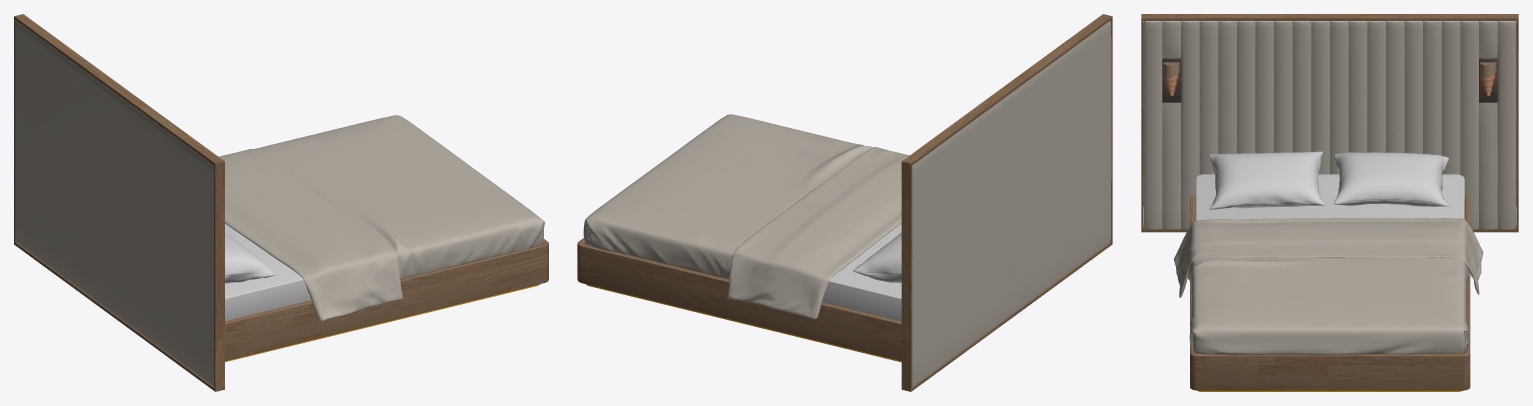
Rendered from bed_01_5th_dimension.glb.
3 renders of one model, left to right at view 1: azimuth 30°, elevation 25°; view 2: azimuth 150°, elevation 25°; view 3: azimuth 270°, elevation 25°, orthographic. The views are drawn at different scales.
Visible parts, largest first — view 1: Object_6, Object_2, Object_8, Object_5; view 2: Object_6, Object_2, Object_8, Object_5; view 3: Object_6, Object_8, Object_2, Object_3, Object_4, Object_5.
Boxes of the visible parts, x1=… form: Object_6: x1=15, y1=21, x2=544, y2=386; Object_2: x1=14, y1=14, x2=548, y2=391; Object_8: x1=225, y1=223, x2=311, y2=321; Object_5: x1=225, y1=284, x2=540, y2=361; Object_6: x1=583, y1=21, x2=1111, y2=386; Object_2: x1=577, y1=14, x2=1112, y2=391; Object_8: x1=822, y1=223, x2=901, y2=321; Object_5: x1=586, y1=284, x2=901, y2=362; Object_6: x1=1143, y1=21, x2=1516, y2=354; Object_8: x1=1195, y1=151, x2=1464, y2=220; Object_2: x1=1141, y1=14, x2=1518, y2=390; Object_3: x1=1162, y1=58, x2=1497, y2=102; Object_4: x1=1163, y1=62, x2=1496, y2=95; Object_5: x1=1197, y1=390, x2=1462, y2=391.
Bounding box in the file's own units: 8.17 × 4.94 × 7.87.
Materials: 6 (4 with a texture image).
